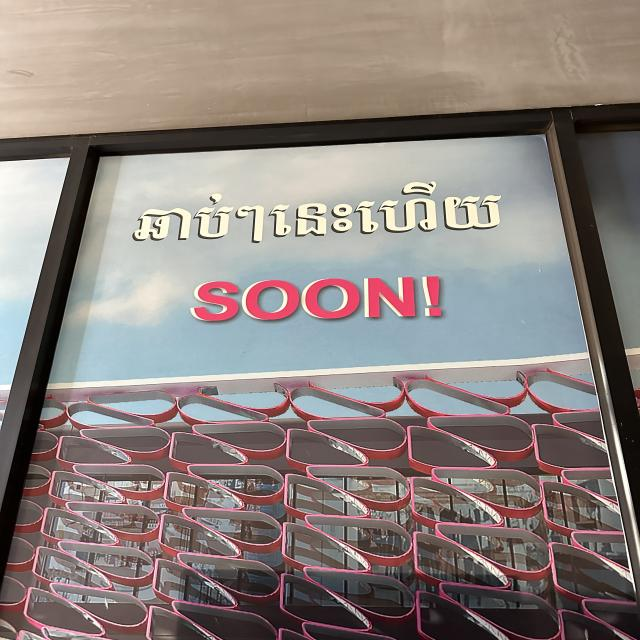Yolov11_80vkh: (123, 176, 516, 255)
